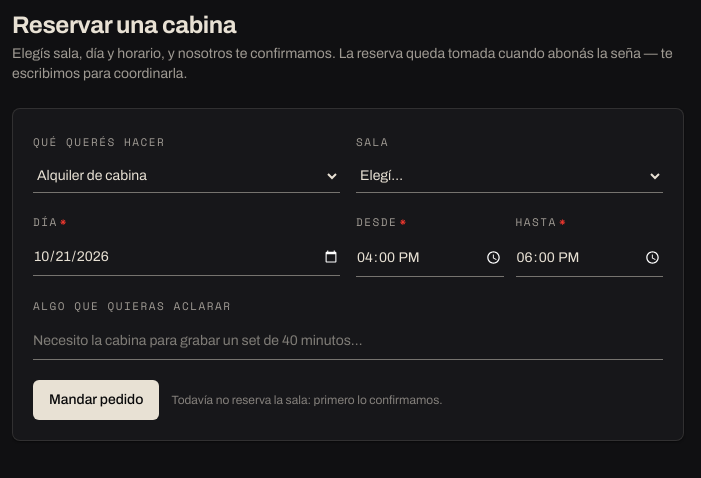
Scenario: el pedido › no manda nada sin sala elegida
Expected: the dropdown labelled "Sala" is shown, [356,159,663,193]
Click the button "Mandar pedido" at (96, 400), box [33,380,159,420]
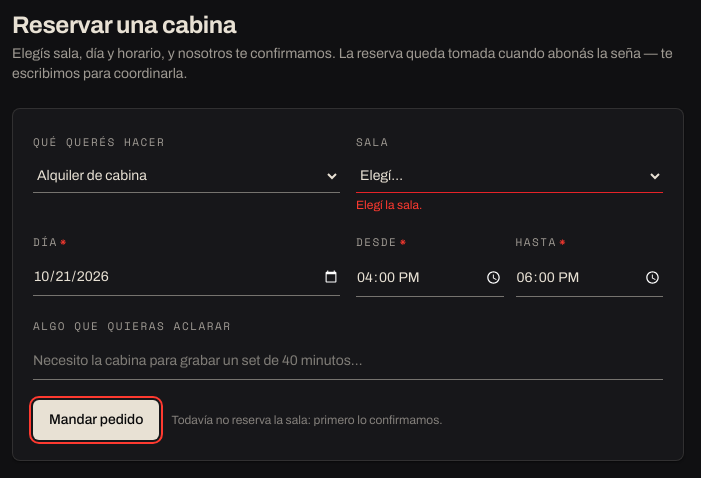
Now the text "Elegí la sala." is shown, box [356,198,422,212]
